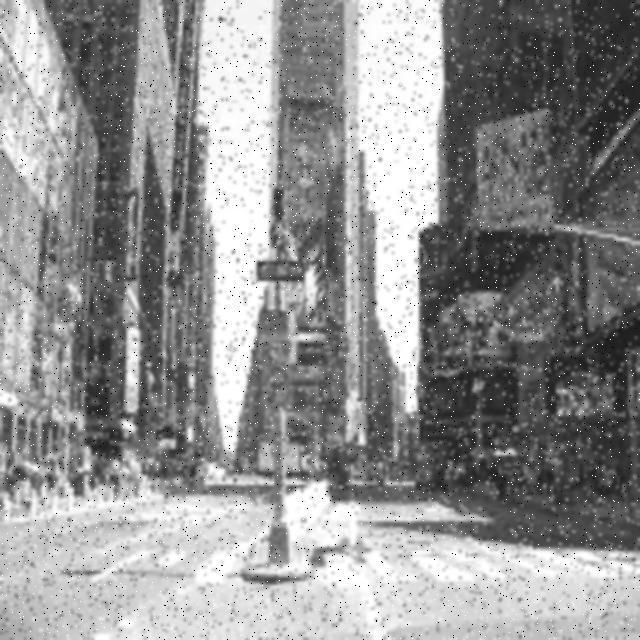Pedestrian crosswalk: (118, 528, 638, 597)
